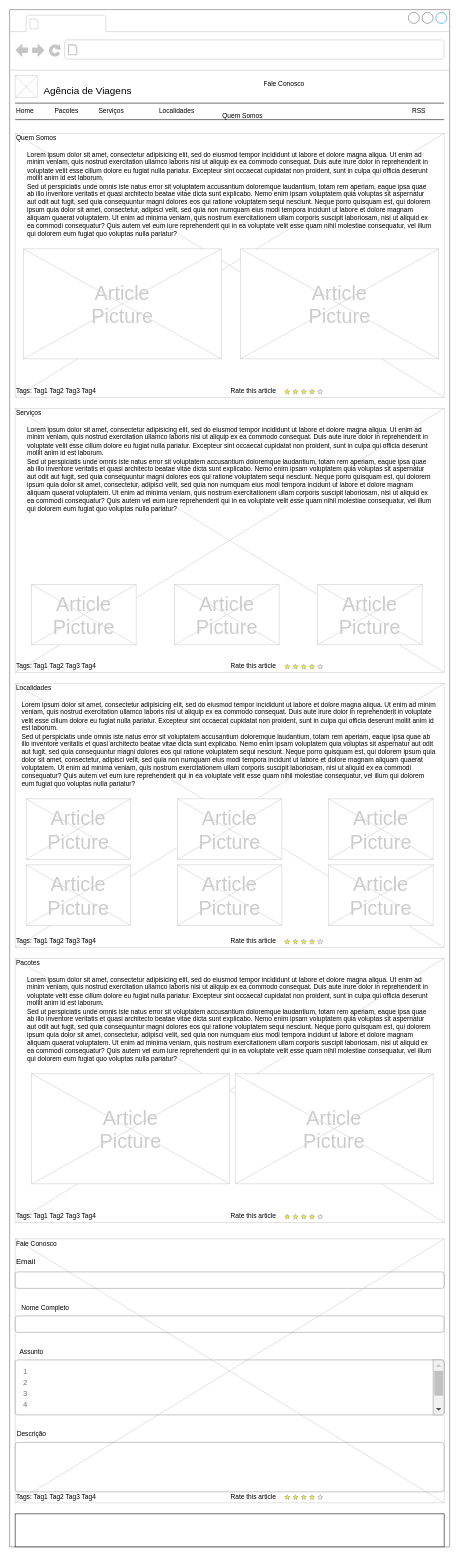
Some shapes in this 459 by 1557 pixel diagram are drawn without their labels. Each missing label, with the centre of its shape:
"Artur Dallagnelo e Camila Bowens" belongs at (x=229, y=1530).
"https://www.nossaagencia.com.br" belongs at (x=150, y=49).
"Logo" belongs at (x=26, y=86).
"Page 1" belongs at (x=72, y=23).
